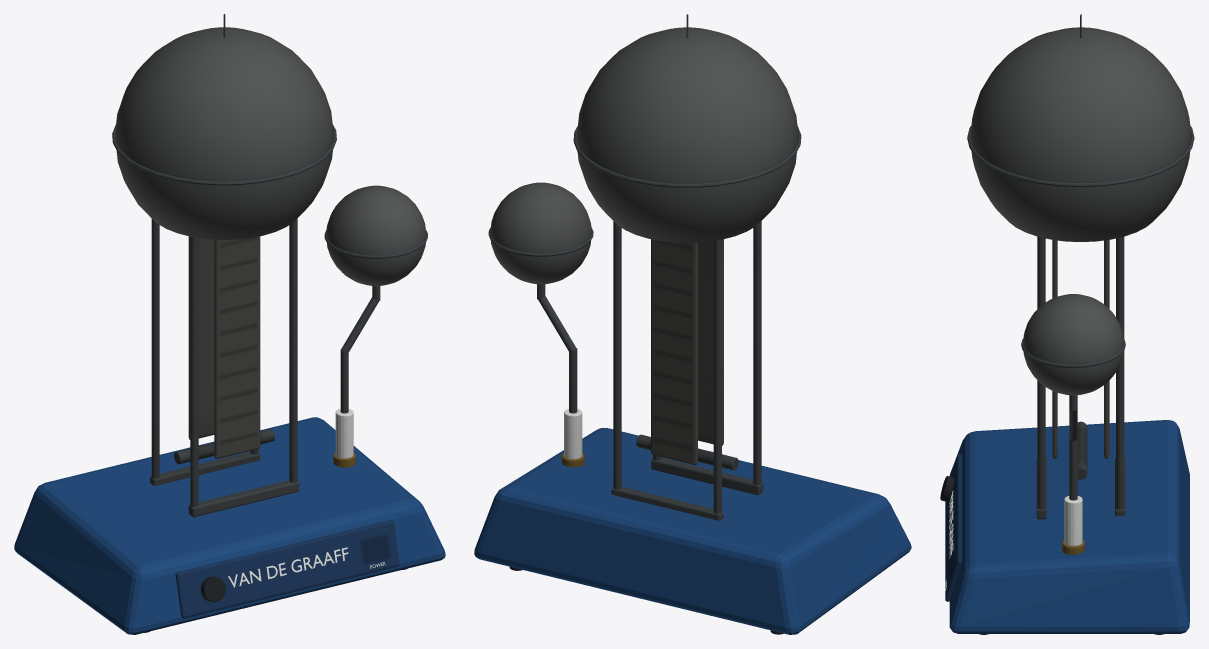
3 renders of one model, left to right at view 1: azimuth 30°, elevation 25°; view 2: azimuth 150°, elevation 25°; view 3: azimuth 270°, elevation 25°, orthographic.
Bounding box in the file's own units: 1.78 × 2.65 × 1.1.
Materials: 1 (1 with a texture image).
